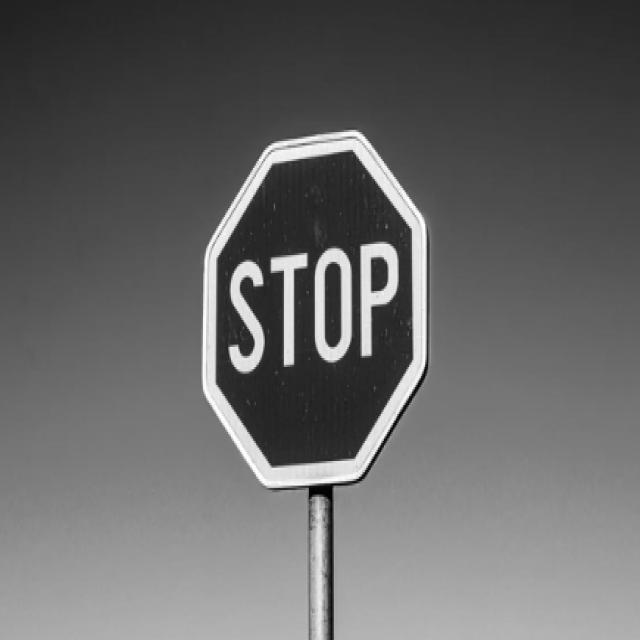Stop-signs: (204, 132, 428, 485)
